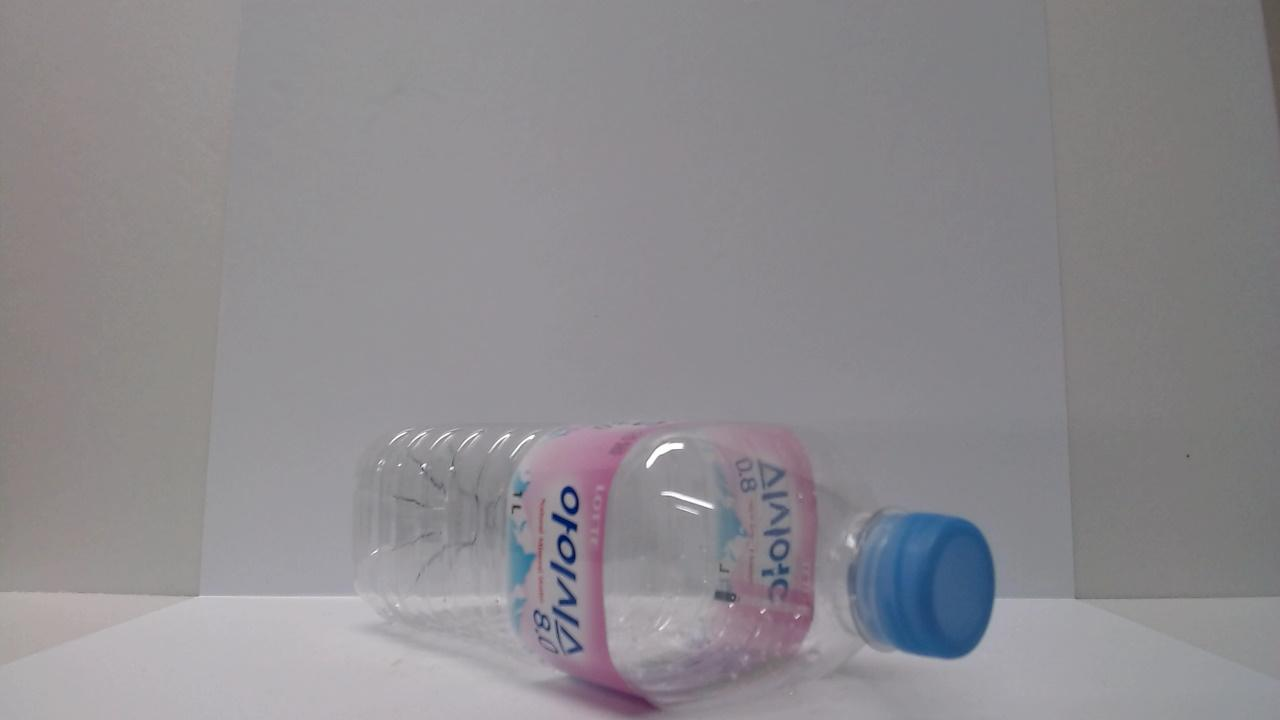bottle: (341, 394, 1010, 720)
